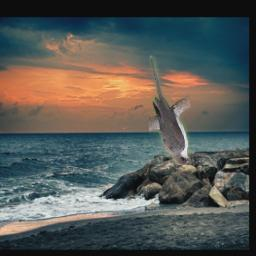Cuckoo: (150, 56, 192, 166)
